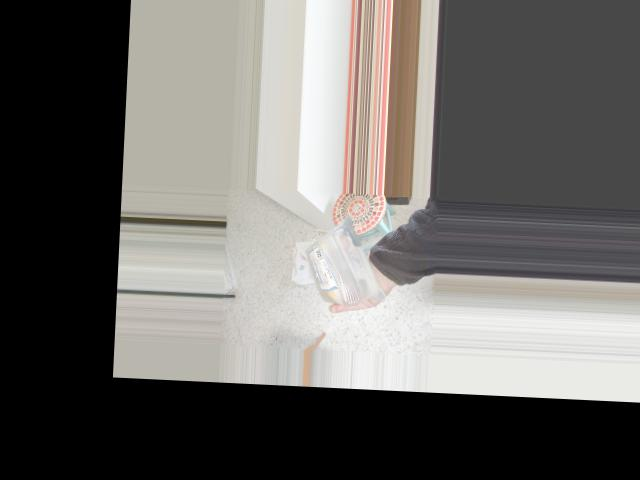cheese: (282, 244, 374, 288)
